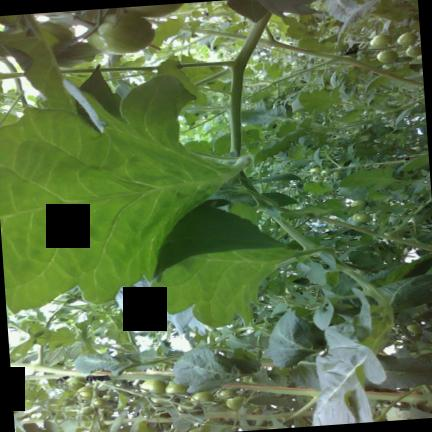6kp_petiole: (16, 343, 69, 373), (179, 27, 227, 48), (312, 50, 359, 67), (258, 24, 286, 47)
MainStem: (257, 37, 423, 86), (321, 215, 432, 250), (10, 361, 172, 380), (222, 381, 319, 396), (194, 26, 247, 39), (365, 390, 404, 400), (317, 395, 317, 396)
tomato: (86, 12, 154, 53), (124, 2, 182, 16), (176, 401, 203, 416), (139, 378, 165, 392), (369, 33, 391, 47), (396, 31, 417, 44), (150, 396, 171, 409), (66, 376, 86, 389), (165, 381, 188, 392), (376, 49, 397, 61), (191, 390, 213, 401), (225, 395, 242, 408), (77, 385, 92, 399), (352, 211, 370, 222), (405, 44, 420, 56), (215, 388, 235, 397), (78, 405, 94, 415), (406, 323, 421, 333), (350, 199, 366, 208), (92, 397, 106, 406), (331, 171, 341, 179), (308, 166, 320, 172), (320, 169, 331, 175), (311, 175, 321, 181), (322, 176, 332, 181)
